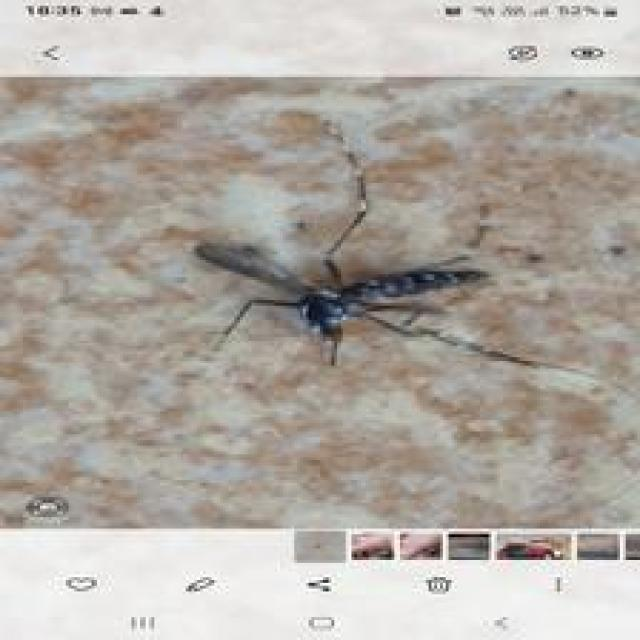Aedes albopictus: (192, 117, 597, 380)
